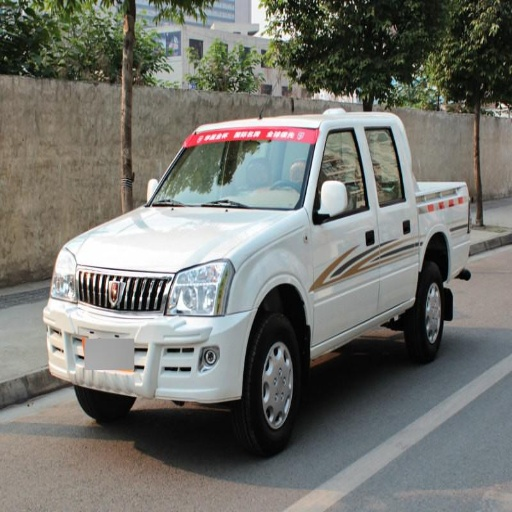front_bumper: (45, 261, 256, 406)
front_glass: (149, 132, 316, 209)
front_left_door: (311, 125, 379, 343)
trunk: (414, 188, 465, 266)
